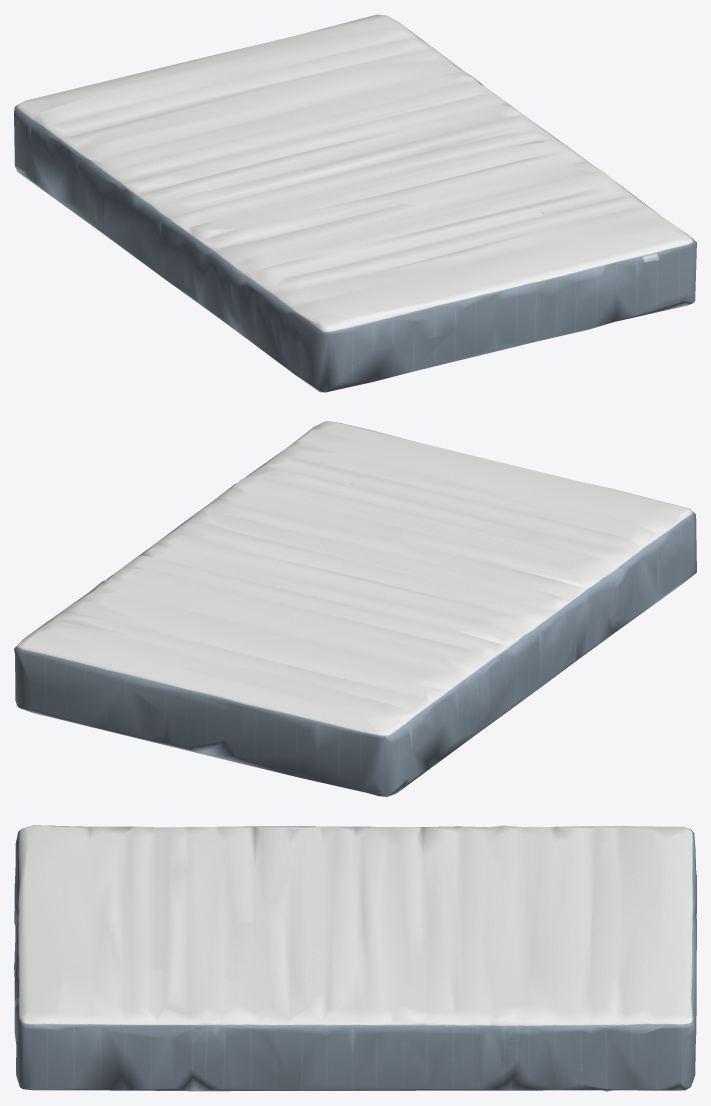
3 views of the same model, one above another, from view 1: azimuth 30°, elevation 25°; view 2: azimuth 150°, elevation 25°; view 3: azimuth 270°, elevation 25° (orthographic). The views are drawn at different scales.
Parts seen in each view (by area): view 1: model; view 2: model; view 3: model.
Boxes of the visible parts, x1,y1,x2,y2 form: model: (14,14,696,392); model: (14,421,696,796); model: (14,825,696,1091).
Bounding box in the file's own units: 1.41 × 0.2398 × 2.
1 material, 1 textured.
